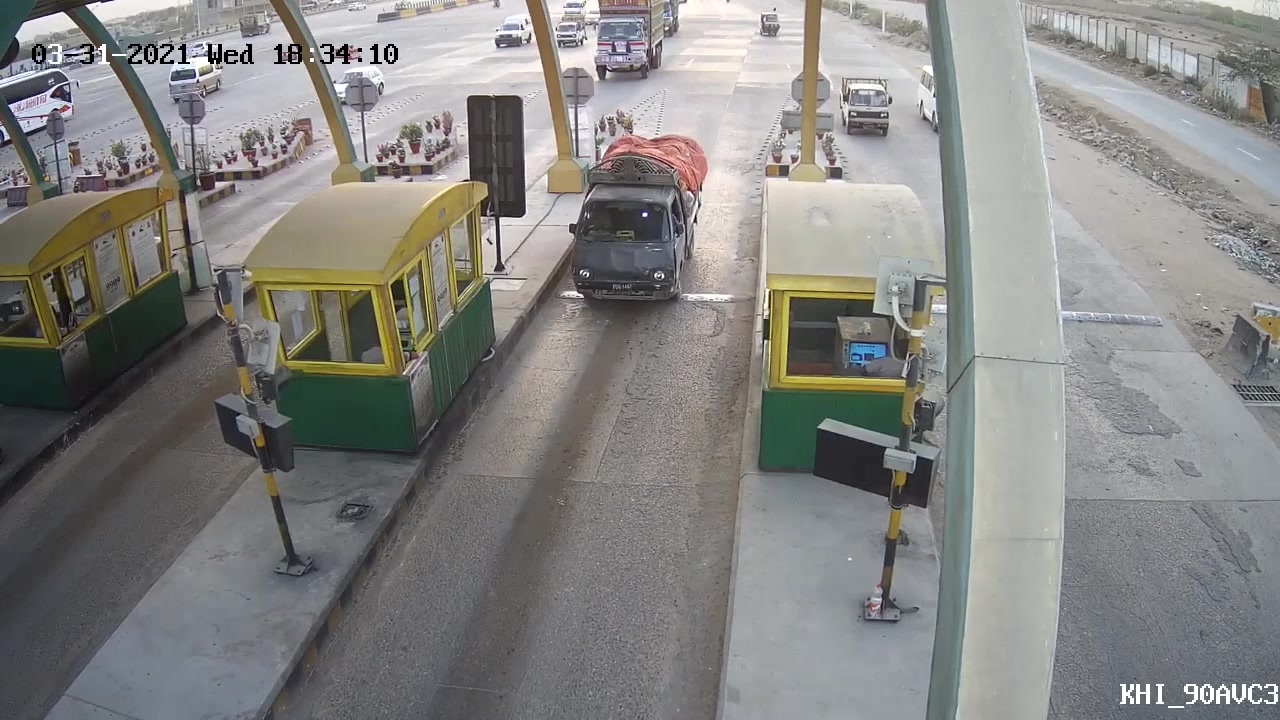F2: (552, 134, 715, 318)
